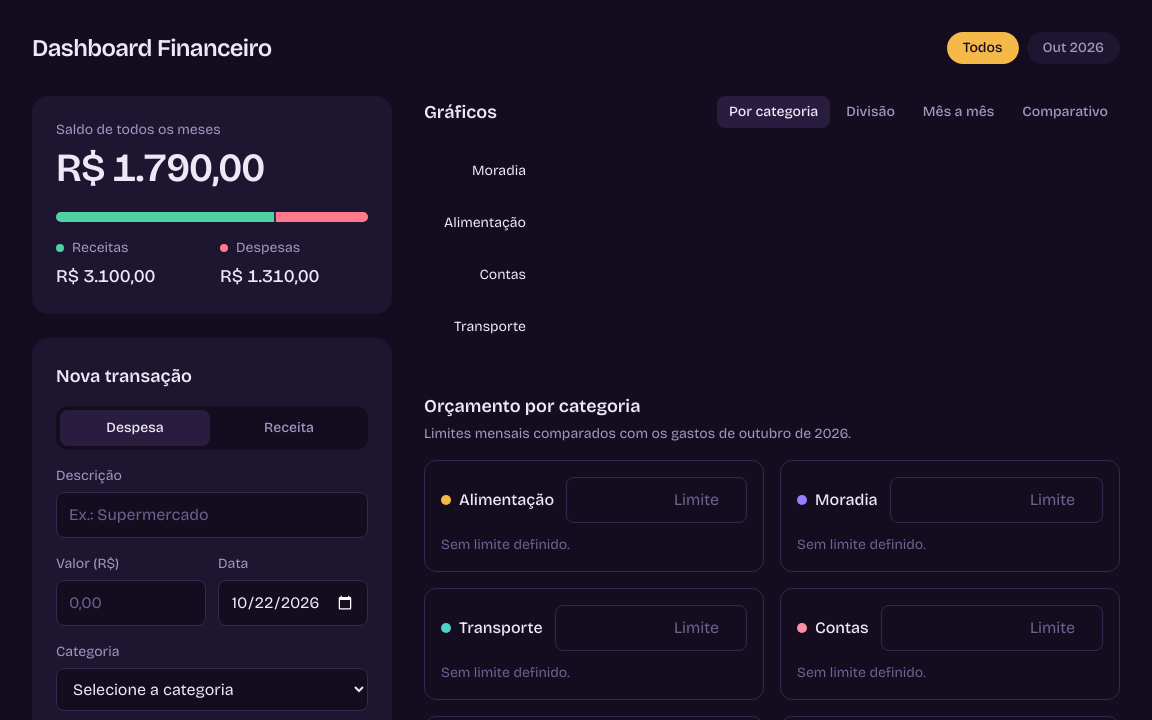
Test: Dashboard › mostra o alerta quando o orçamento da categoria estoura
In the number field named "Limite mensal de Moradia": (996, 500) [890,477,1103,523], type "500"
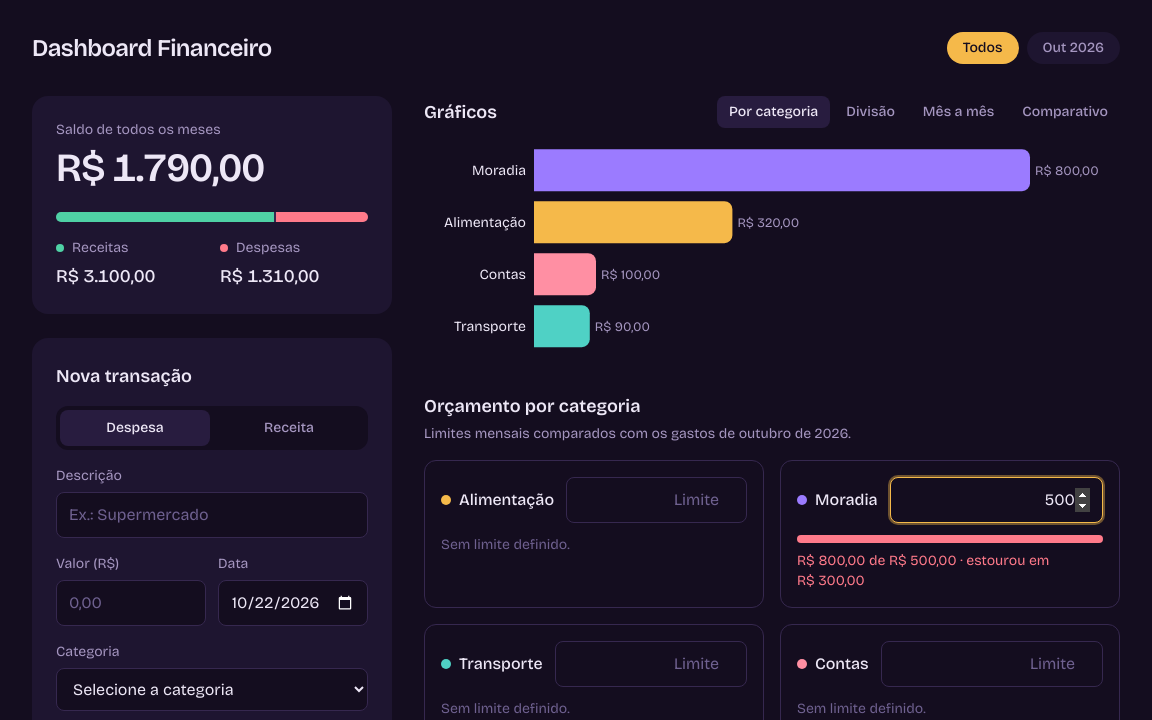
Expected: the text "R$ 800,00 de R$ 500,00 · estourou em R$ 300,00" is shown, [797,552,1049,589]
